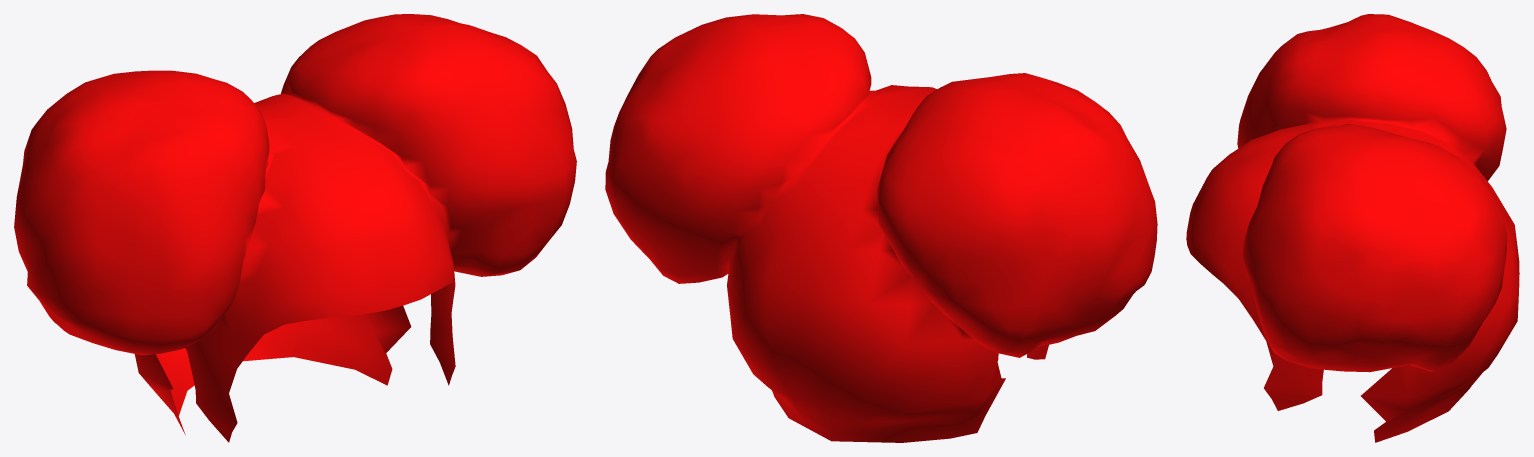
File: elvs_micky_afro_M.glb
The picture shows the model from 3 angles, left to right: view 1: azimuth 30°, elevation 25°; view 2: azimuth 150°, elevation 25°; view 3: azimuth 270°, elevation 25°; orthographic projection. The views are drawn at different scales.
Bounding box in the file's own units: 0.3361 × 0.2235 × 0.2153.
Materials: 1 (1 with a texture image).
